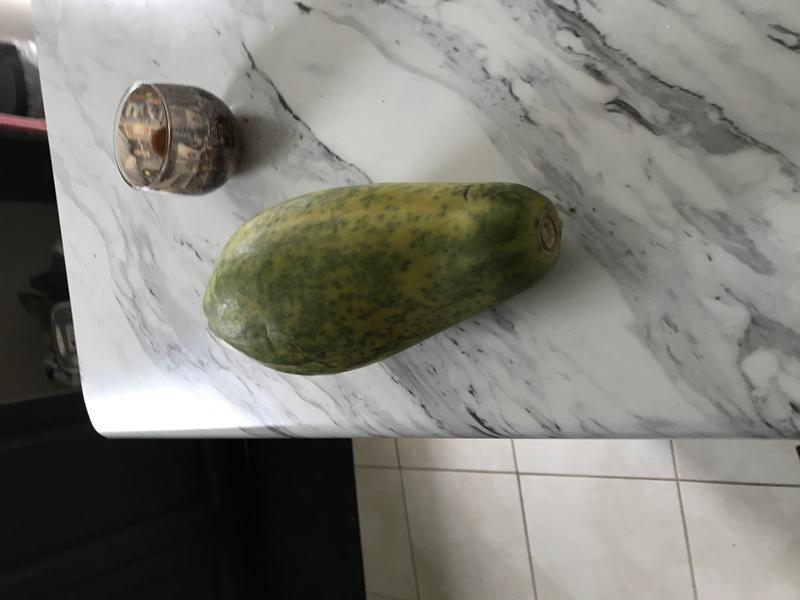papaya: (193, 170, 574, 381)
